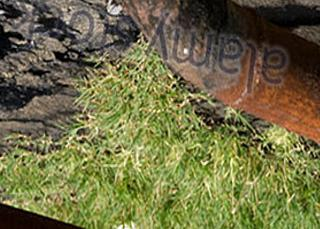rust: (234, 28, 320, 138)
